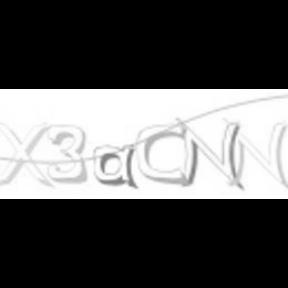3: (46, 124, 88, 184)
C: (134, 120, 192, 186)
N: (177, 116, 243, 188), (223, 118, 287, 188)
X: (0, 121, 50, 187)
a: (92, 142, 138, 188)
